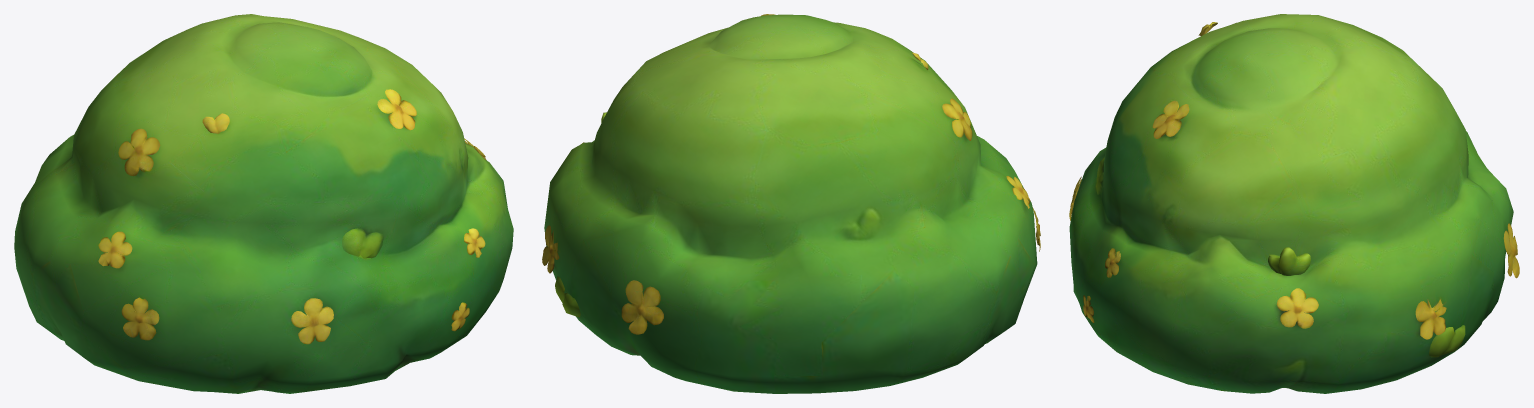
Rendered from bush.glb.
3 renders of one model, left to right at view 1: azimuth 30°, elevation 25°; view 2: azimuth 150°, elevation 25°; view 3: azimuth 270°, elevation 25°, orthographic.
Visible parts, largest first — view 1: geometry_0; view 2: geometry_0; view 3: geometry_0.
Boxes of the visible parts, bbox=[...] form: geometry_0: bbox=[14, 14, 513, 393]; geometry_0: bbox=[542, 14, 1040, 393]; geometry_0: bbox=[1069, 14, 1519, 393].
Bounding box in the file's own units: 0.9575 × 0.5752 × 0.856.
Materials: 1 (1 with a texture image).
